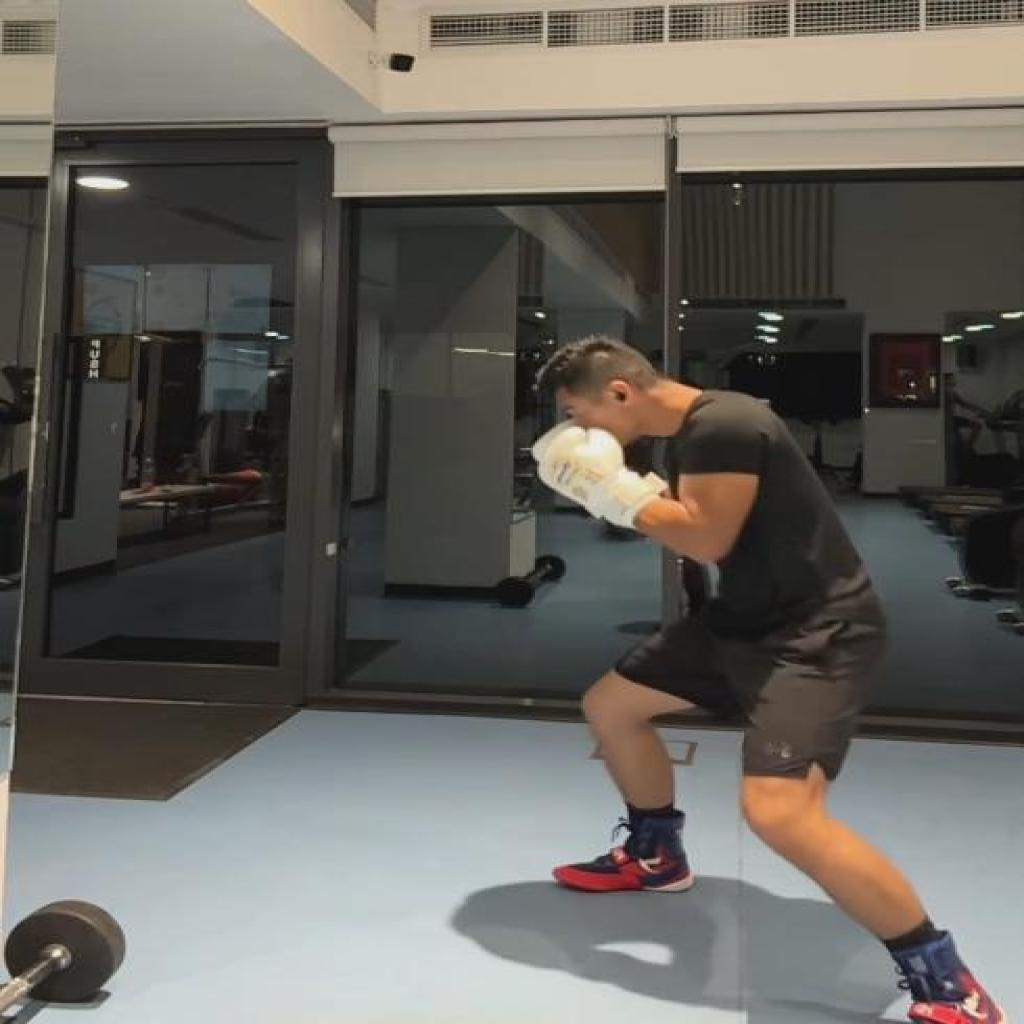no punch: (525, 333, 1005, 1024)
